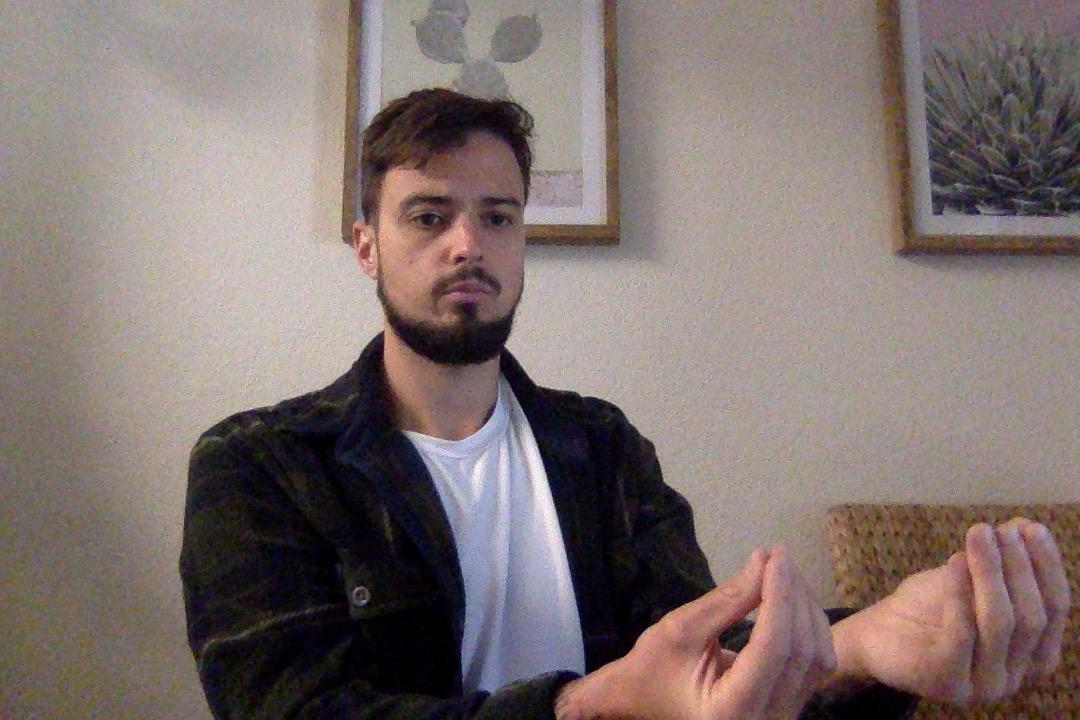Italian-Gesture: (596, 534, 833, 720), (886, 510, 1066, 720)
